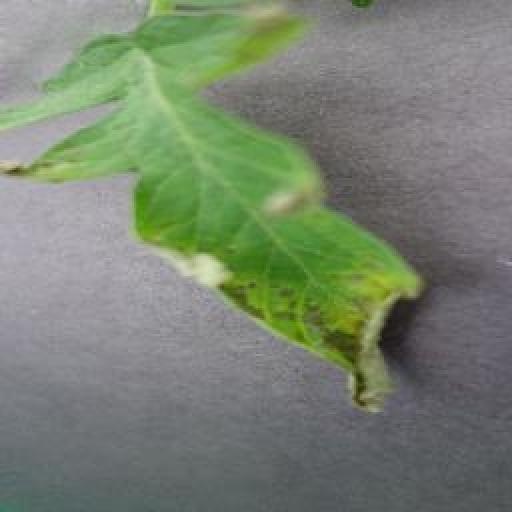Late Blight: (0, 0, 428, 420)
